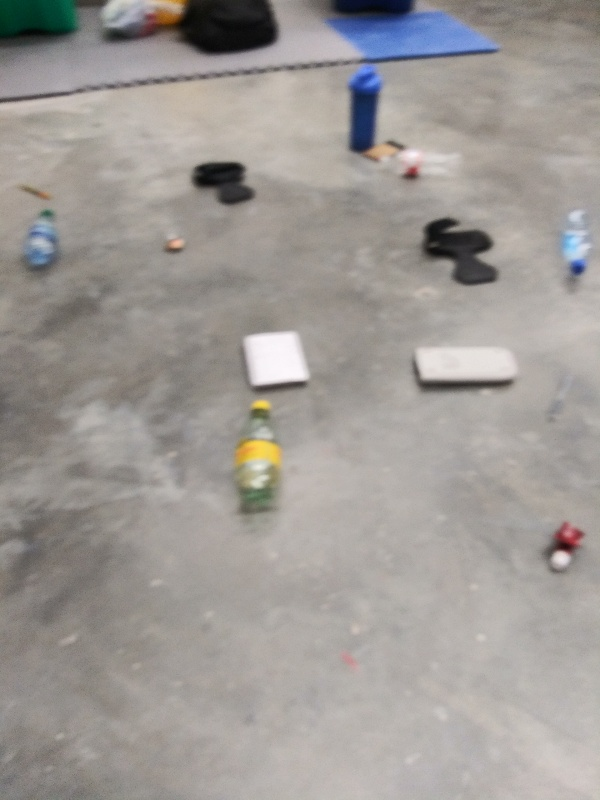bottle: (230, 395, 283, 515), (373, 149, 468, 183), (21, 205, 63, 277), (556, 206, 592, 274)
